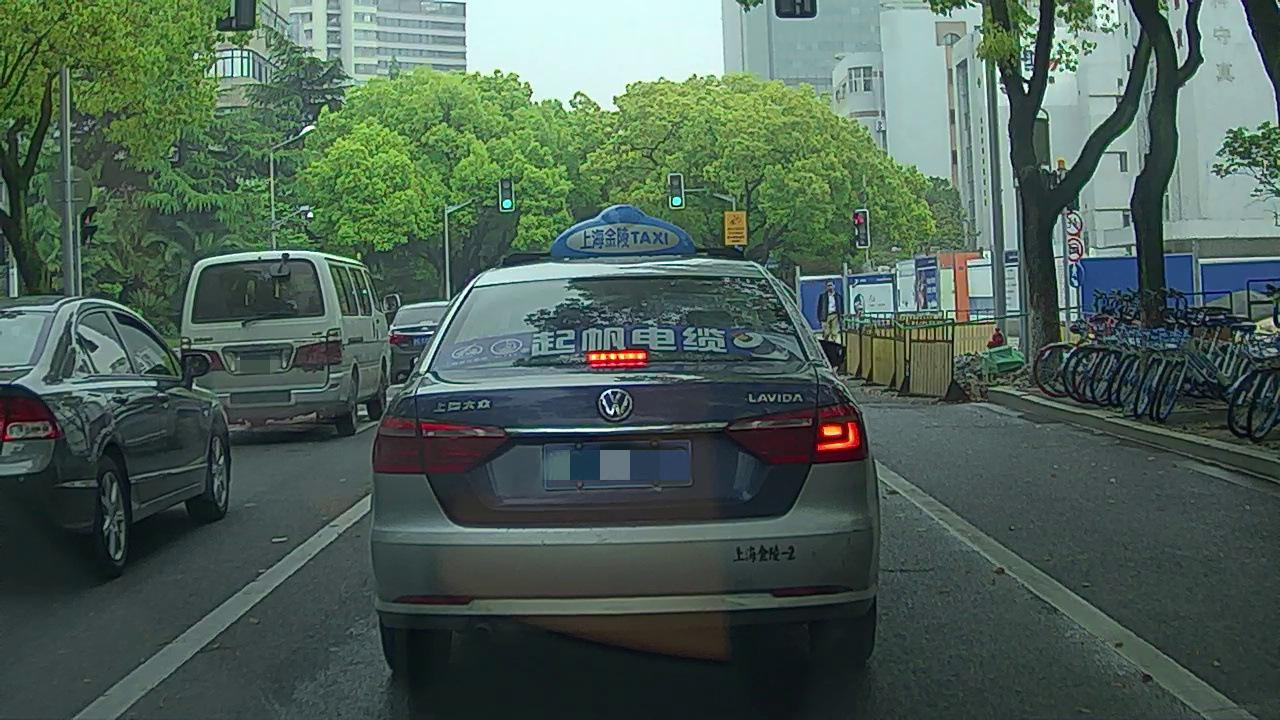traffic_light: (670, 175, 684, 207), (500, 178, 513, 210)
